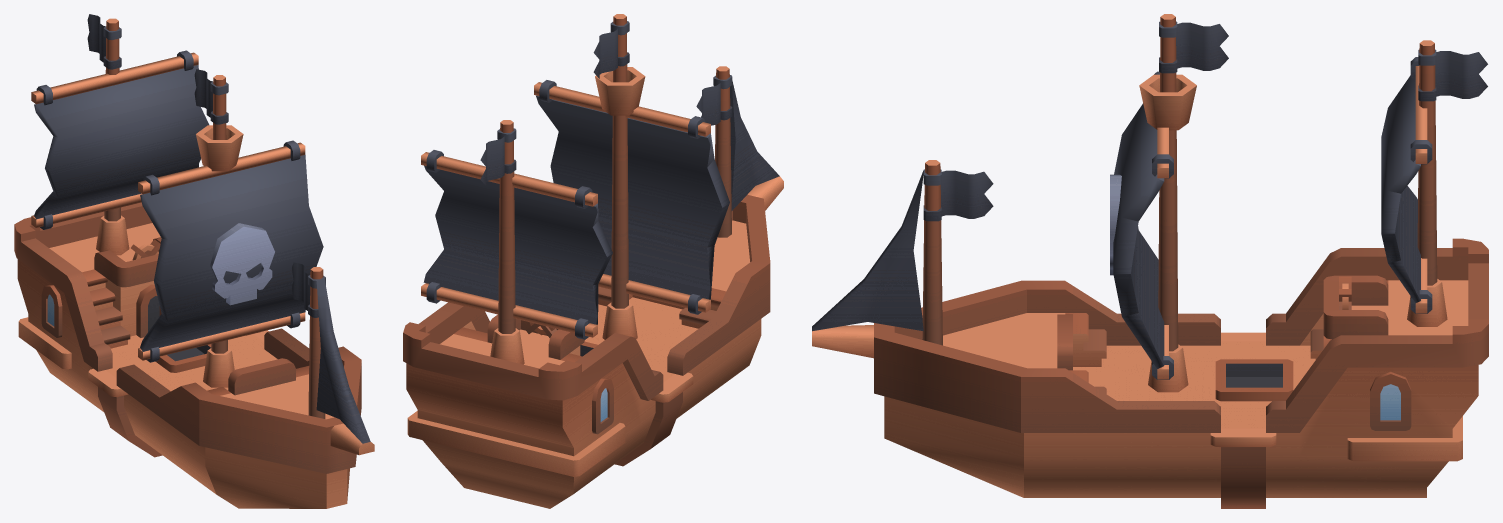
Rendered from pirate_ship.glb.
3 renders of one model, left to right at view 1: azimuth 30°, elevation 25°; view 2: azimuth 150°, elevation 25°; view 3: azimuth 270°, elevation 25°, orthographic. The views are drawn at different scales.
Visible parts, largest first — view 1: ship-pirate-large, sail-a.003, sail-b.003, flag-c.004, flag-c.005, flag-c.003; view 2: ship-pirate-large, sail-a.003, sail-b.003, flag-c.005, flag-c.004, flag-c.003; view 3: ship-pirate-large, sail-a.003, sail-b.003, flag-c.003, flag-c.004, flag-c.005.
Boxes of the visible parts, box(x1,y1,x2,y2) form: ship-pirate-large: box(14, 18, 374, 508); sail-a.003: box(138, 140, 323, 362); sail-b.003: box(31, 50, 209, 229); flag-c.004: box(194, 69, 228, 124); flag-c.005: box(87, 14, 121, 69); flag-c.003: box(291, 262, 325, 317); ship-pirate-large: box(403, 14, 783, 508); sail-a.003: box(534, 80, 729, 314); sail-b.003: box(421, 150, 612, 339); flag-c.005: box(480, 128, 516, 186); flag-c.004: box(593, 21, 629, 78); flag-c.003: box(696, 75, 732, 125); ship-pirate-large: box(812, 14, 1488, 508); sail-a.003: box(1110, 71, 1173, 379); sail-b.003: box(1381, 57, 1432, 313); flag-c.003: box(923, 169, 993, 221); flag-c.004: box(1159, 21, 1228, 73); flag-c.005: box(1418, 49, 1487, 101).
Bounding box in the file's own units: 4.8 × 9.96 × 13.1.
1 material, 1 textured.
